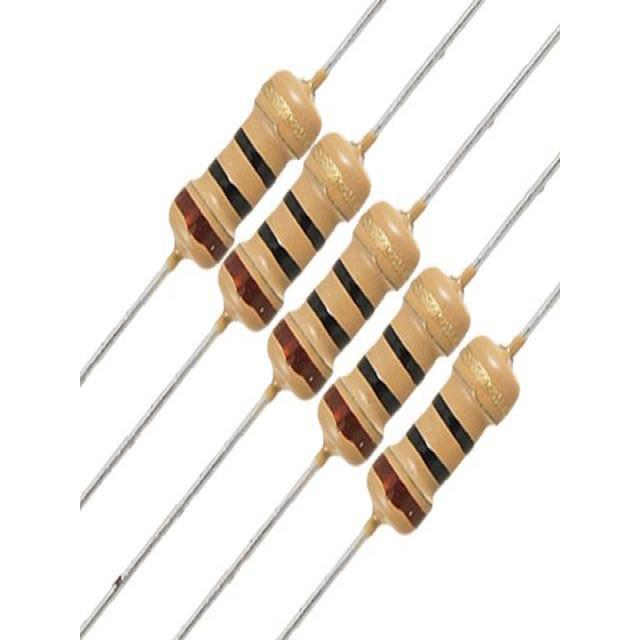Resistor: (372, 325, 526, 533), (170, 66, 316, 268), (272, 192, 411, 402), (223, 130, 363, 336), (324, 259, 463, 466)
